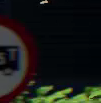Heavy Vehicles: (0, 9, 36, 101)
